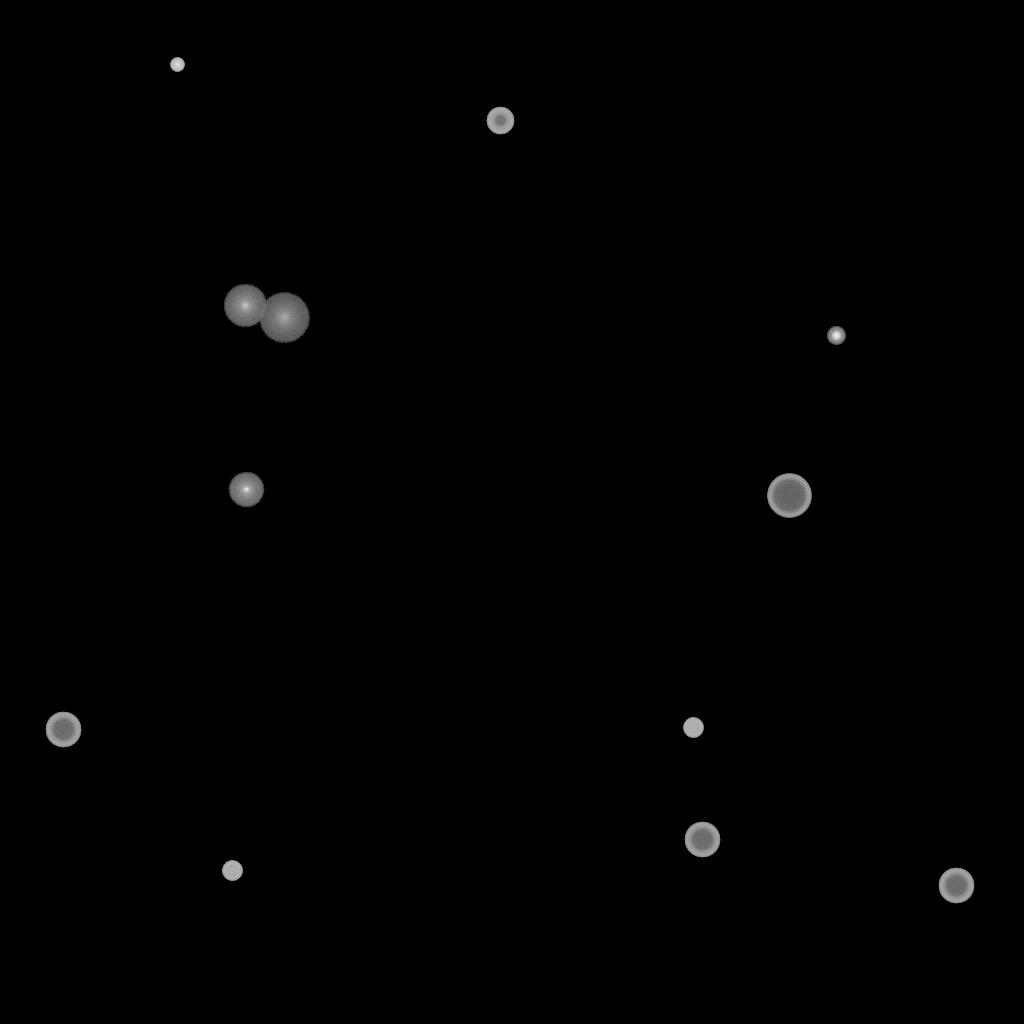depth:-20: (827, 327, 845, 345)
depth:-30: (170, 58, 184, 72)
depth:-40: (222, 861, 242, 881), (683, 718, 703, 738)
depth:-50: (486, 107, 514, 135)
depth:-60: (938, 868, 974, 904), (45, 712, 81, 748), (684, 822, 720, 858)
depth:-70: (767, 474, 811, 518)
depth:0: (228, 472, 264, 508)
depth:10: (223, 284, 267, 328)
depth:20: (258, 293, 310, 343)
